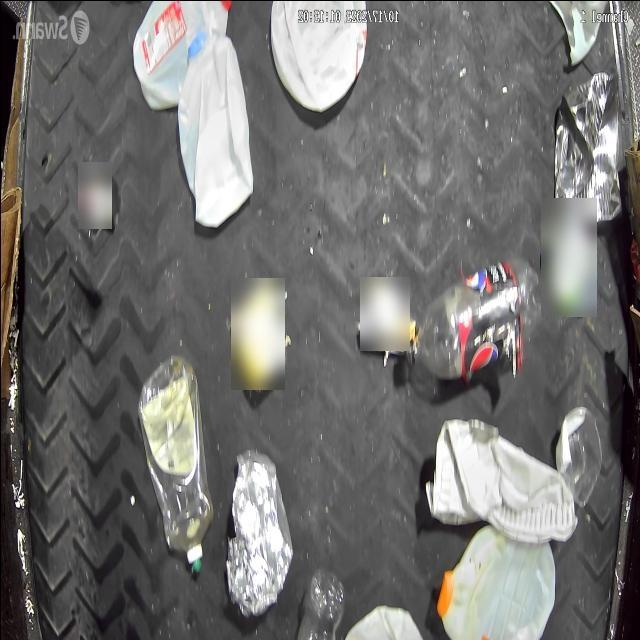milk_jug: (176, 34, 252, 230), (439, 526, 553, 640), (132, 0, 230, 112)
plastic_bottle: (408, 257, 540, 380)
